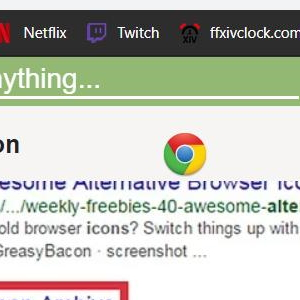chrome: (163, 132, 207, 177)
